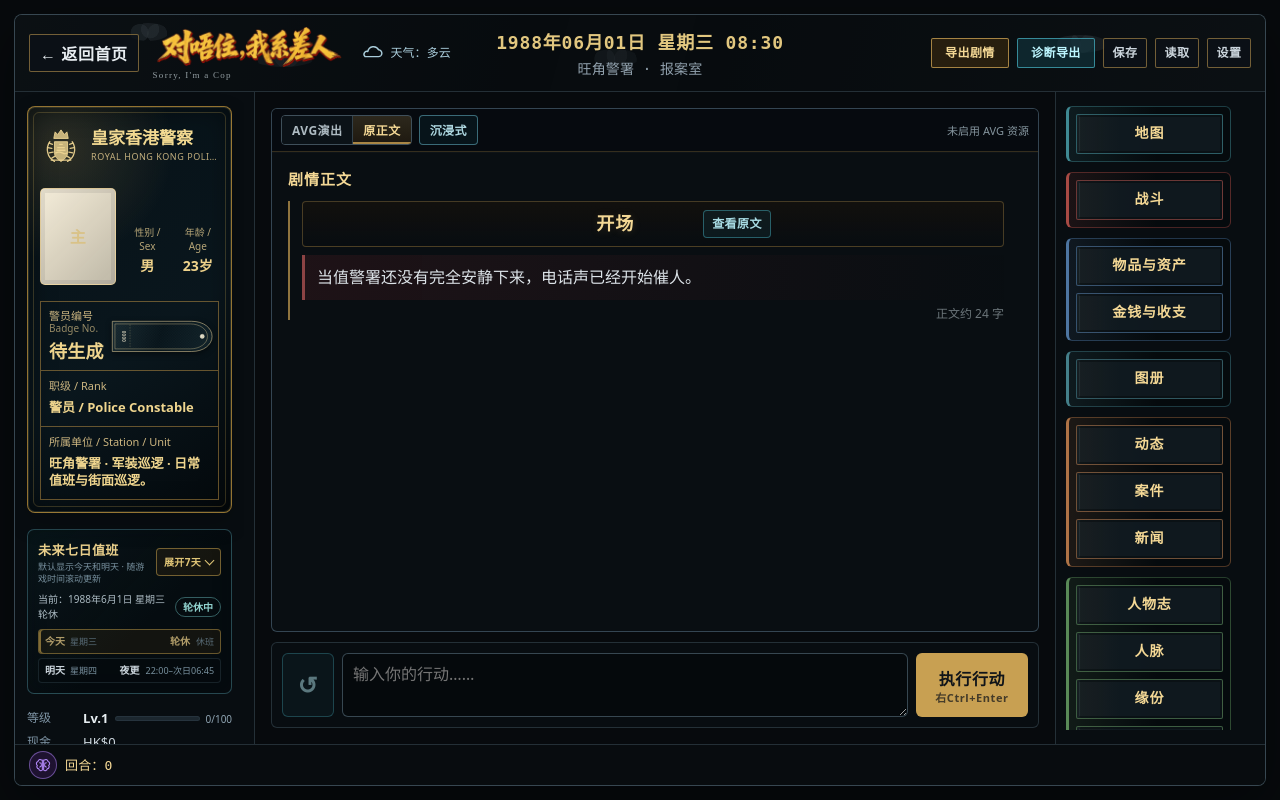
Test: GameScreen rollback chain › shows the sent action and real stage immediately, then aborts and restores the draft
The image size is (1280, 800).
Step 1. Type "我先封锁后巷，再呼叫支援。" into the text box named "玩家行动" → (625, 685), box [342,653,908,717]
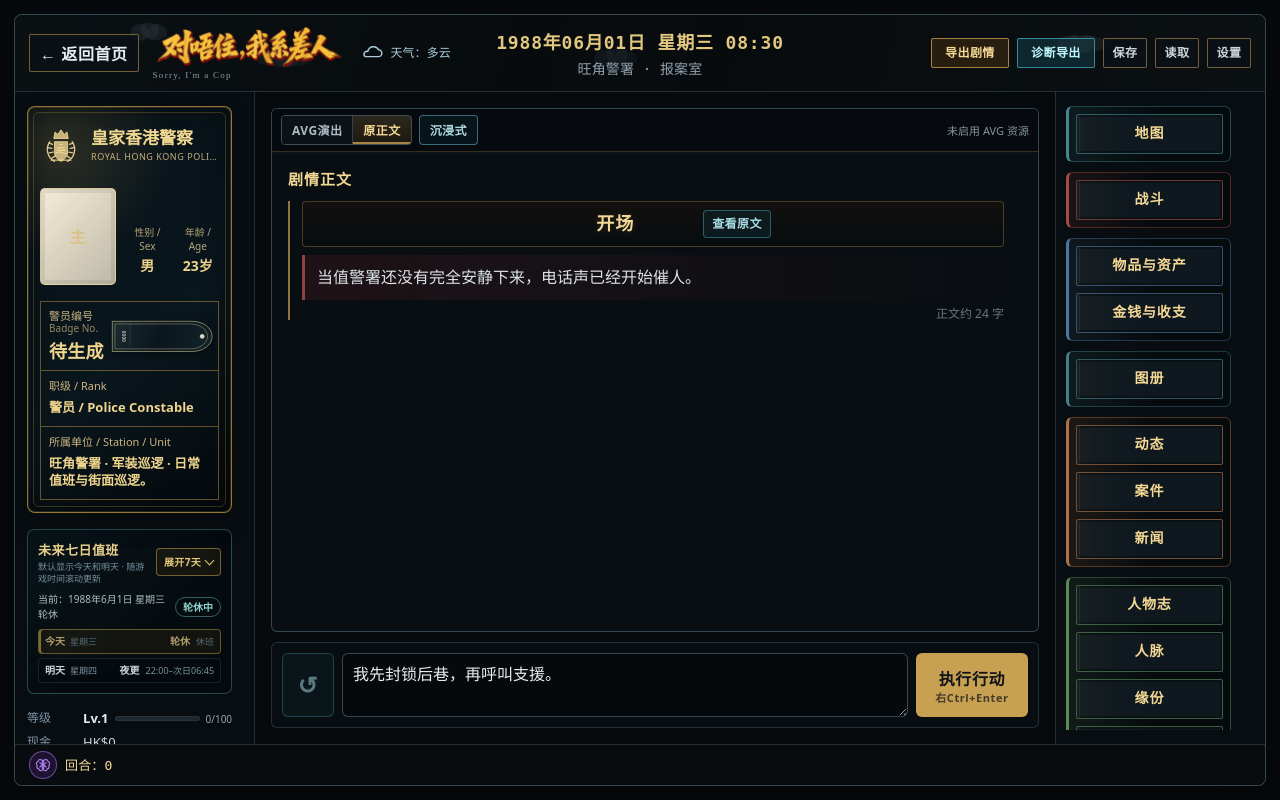
Step 2. Click the button "执行行动 右Ctrl+Enter" → (972, 685), box [916,653,1028,717]
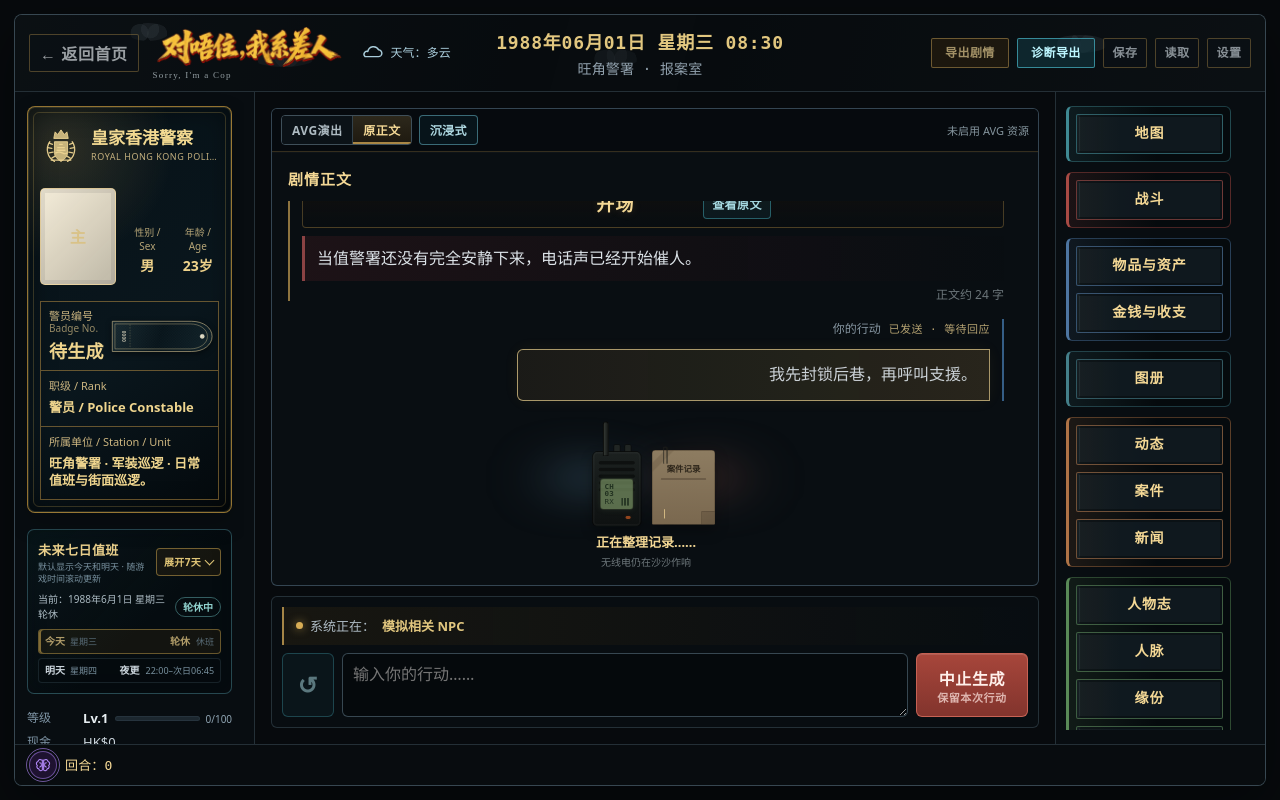
Check: the text "我先封锁后巷，再呼叫支援。" is shown, box [517,350,990,401]
Check: the text "已发送 · 等待回应" is shown, box [889,320,990,336]
Check: the text "模拟相关 NPC" is shown, box [382,616,464,635]
Step 3. Click the button "中止生成 保留本次行动" → (972, 685), box [916,653,1028,717]
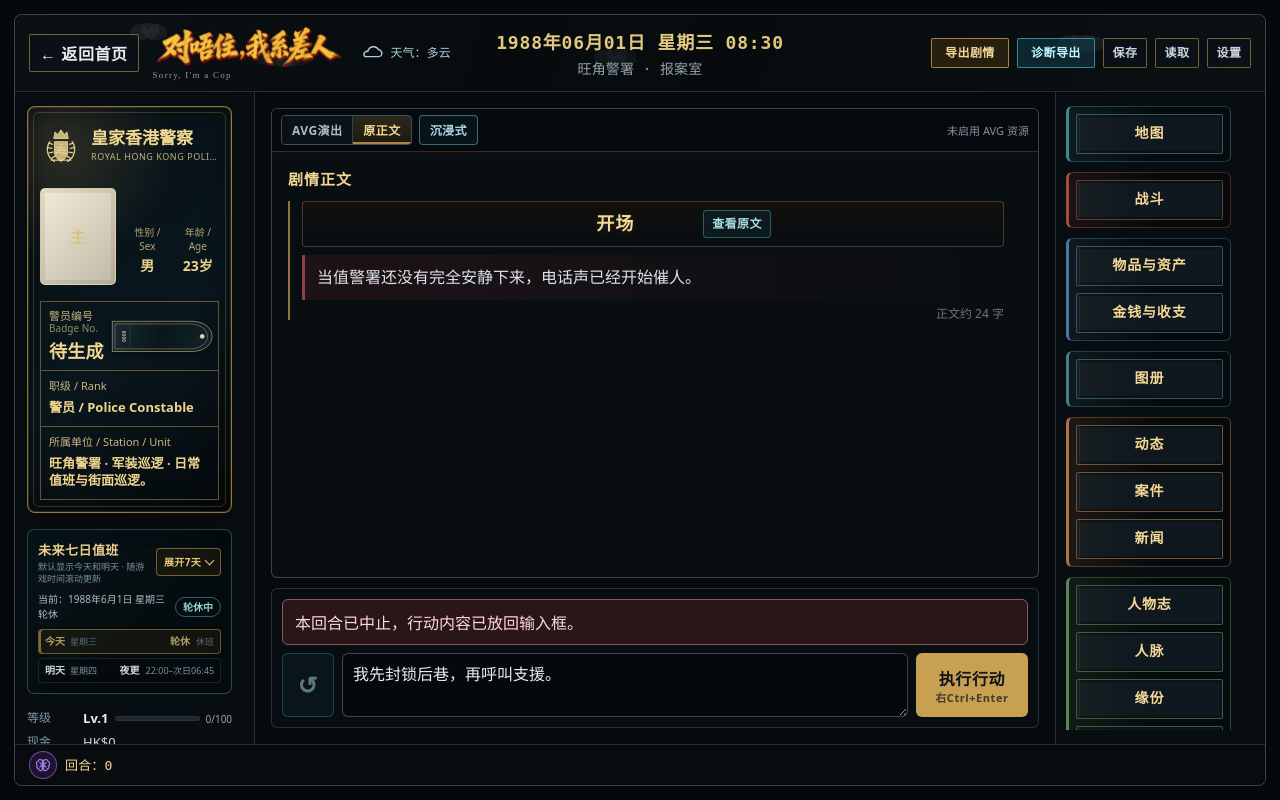
Check: the text "本回合已中止，行动内容已放回输入框。" is shown, box [282,599,1028,645]
Check: the text "模拟相关 NPC" is gone
